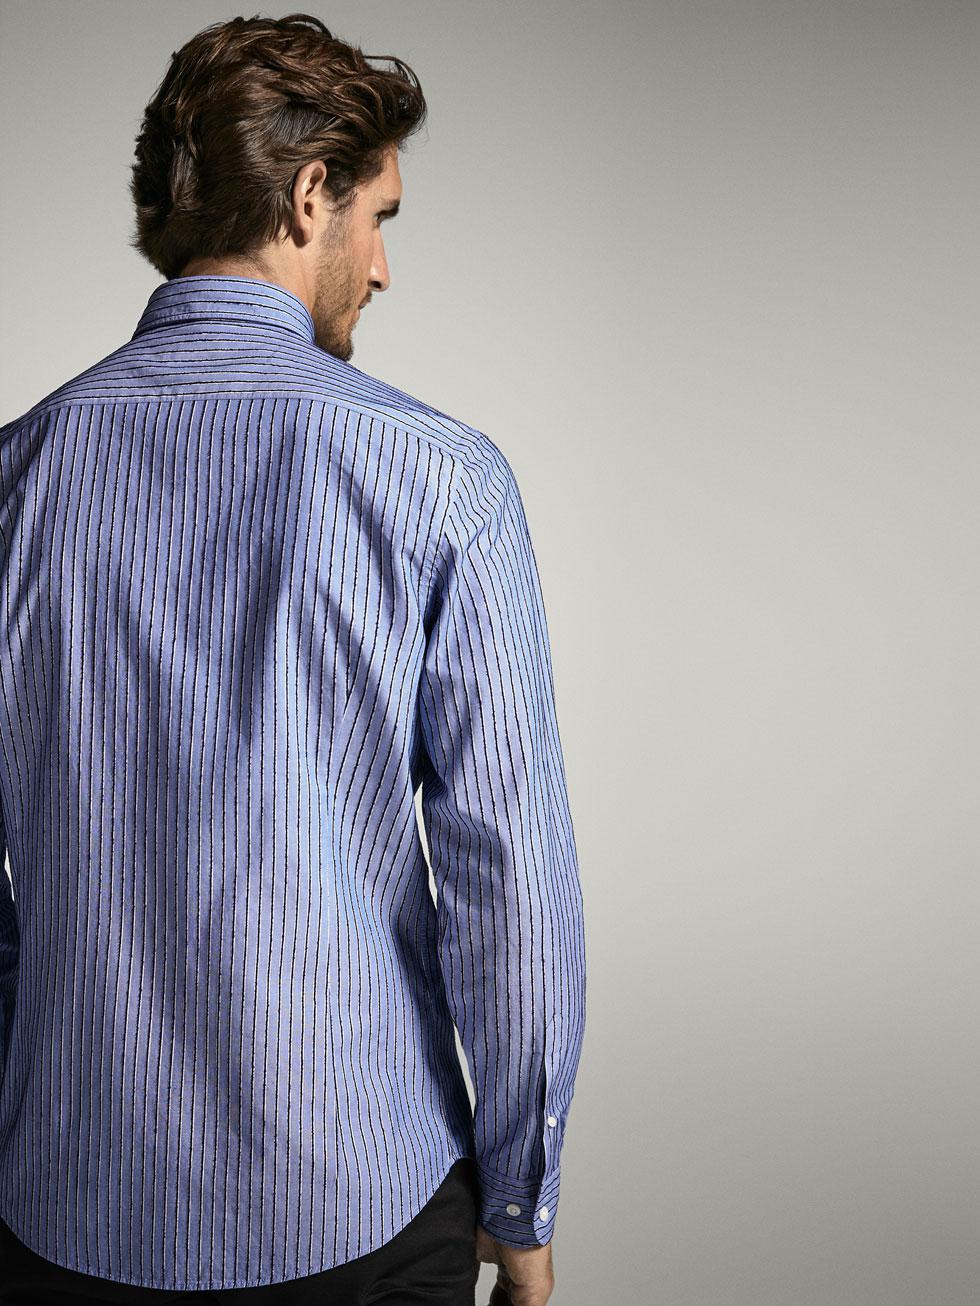teeshirt: (1, 281, 607, 1306)
